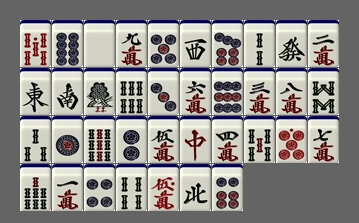0m: (148, 164, 179, 211)
0p: (276, 116, 307, 163)
0s: (20, 20, 51, 67)
1m: (52, 164, 83, 211)
1p: (52, 116, 83, 163)
1s: (84, 68, 115, 115)
1z: (20, 68, 51, 115)
2m: (308, 20, 339, 67)
2p: (116, 116, 147, 163)
2s: (244, 20, 275, 67)
2z: (52, 68, 83, 115)
3m: (244, 68, 275, 115)
3p: (148, 68, 179, 115)
3s: (20, 116, 51, 163)
3z: (180, 20, 211, 67)
4m: (212, 116, 243, 163)
4p: (84, 164, 115, 211)
4s: (116, 164, 147, 211)
4z: (180, 164, 211, 211)
5m: (148, 116, 179, 163)
5p: (148, 20, 179, 67)
5s: (244, 116, 275, 163)
5z: (84, 20, 115, 67)
6m: (180, 68, 211, 115)
6p: (212, 164, 243, 211)
6s: (116, 68, 147, 115)
6z: (276, 20, 307, 67)
7m: (308, 116, 339, 163)
7p: (212, 20, 243, 67)
7s: (20, 164, 51, 211)
7z: (180, 116, 211, 163)
8m: (276, 68, 307, 115)
8p: (52, 20, 83, 67)
8s: (308, 68, 339, 115)
9m: (116, 20, 147, 67)
9p: (212, 68, 243, 115)
9s: (84, 116, 115, 163)
